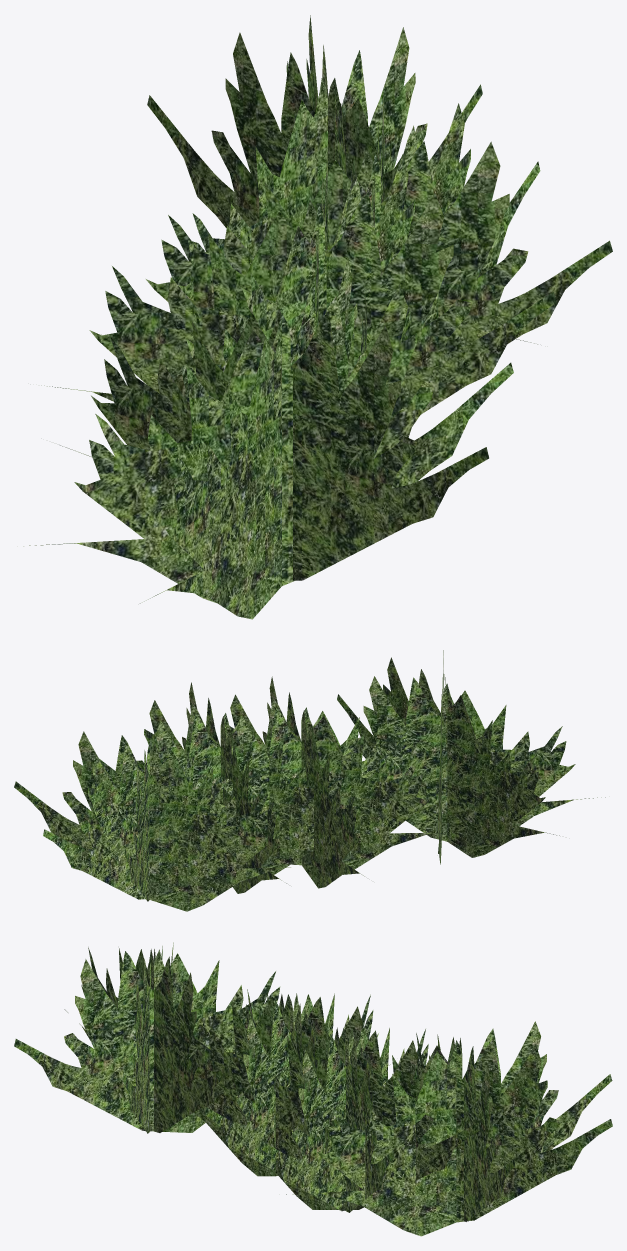
File: grass01.fbx
3 views of the same model, one above another, from view 1: azimuth 30°, elevation 25°; view 2: azimuth 150°, elevation 25°; view 3: azimuth 270°, elevation 25° (orthographic). The views are drawn at different scales.
Visible parts, largest first — view 1: Group4, Group3, Group2, Group1; view 2: Group2, Group4, Group3, Group1; view 3: Group2, Group4, Group1, Group3.
Boxes of the visible parts, bbox=[...] form: Group4: bbox=[23, 258, 513, 619]; Group3: bbox=[41, 144, 556, 419]; Group2: bbox=[147, 15, 537, 344]; Group1: bbox=[101, 92, 612, 354]; Group2: bbox=[14, 731, 307, 911]; Group4: bbox=[337, 650, 605, 864]; Group3: bbox=[191, 676, 444, 888]; Group1: bbox=[99, 682, 382, 893]; Group2: bbox=[286, 1021, 612, 1236]; Group4: bbox=[14, 942, 280, 1133]; Group1: bbox=[204, 1027, 480, 1212]; Group3: bbox=[149, 989, 390, 1176].
Size of the model in its own units: 1864 by 745 by 2018.
